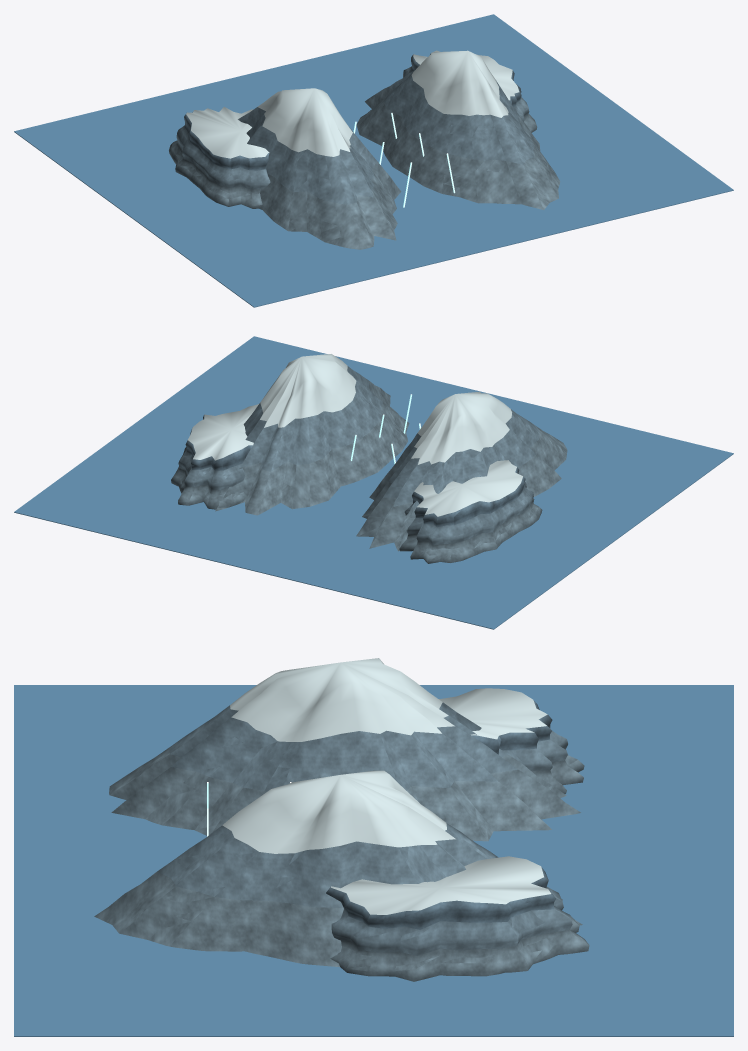
File: glacier-rift-v1.glb
3 views of the same model, one above another, from view 1: azimuth 30°, elevation 25°; view 2: azimuth 150°, elevation 25°; view 3: azimuth 270°, elevation 25° (orthographic). The views are drawn at different scales.
Visible parts, largest first — view 1: Blue ice, glacier-rift strata 0, glacier-rift strata 1, glacier-rift mantle, glacier-rift strata 2; view 2: Blue ice, glacier-rift strata 0, glacier-rift strata 1, glacier-rift mantle, glacier-rift strata 2; view 3: Blue ice, glacier-rift strata 1, glacier-rift mantle, glacier-rift strata 0, glacier-rift strata 2.
Boxes of the visible parts, x1=… form: Blue ice: x1=14, y1=14, x2=733, y2=307; glacier-rift strata 0: x1=169, y1=86, x2=560, y2=249; glacier-rift strata 1: x1=176, y1=66, x2=534, y2=204; glacier-rift mantle: x1=186, y1=50, x2=519, y2=158; glacier-rift strata 2: x1=184, y1=53, x2=521, y2=170; Blue ice: x1=14, y1=336, x2=733, y2=629; glacier-rift strata 0: x1=171, y1=381, x2=567, y2=563; glacier-rift strata 1: x1=178, y1=366, x2=539, y2=545; glacier-rift mantle: x1=188, y1=354, x2=522, y2=516; glacier-rift strata 2: x1=185, y1=415, x2=525, y2=527; Blue ice: x1=14, y1=685, x2=733, y2=1036; glacier-rift strata 1: x1=157, y1=702, x2=572, y2=955; glacier-rift mantle: x1=222, y1=658, x2=551, y2=914; glacier-rift strata 0: x1=94, y1=748, x2=589, y2=981; glacier-rift strata 2: x1=326, y1=700, x2=555, y2=929.
Size of the model in its own units: 150 by 29.48 by 130.
Materials: 6 (3 with a texture image).
